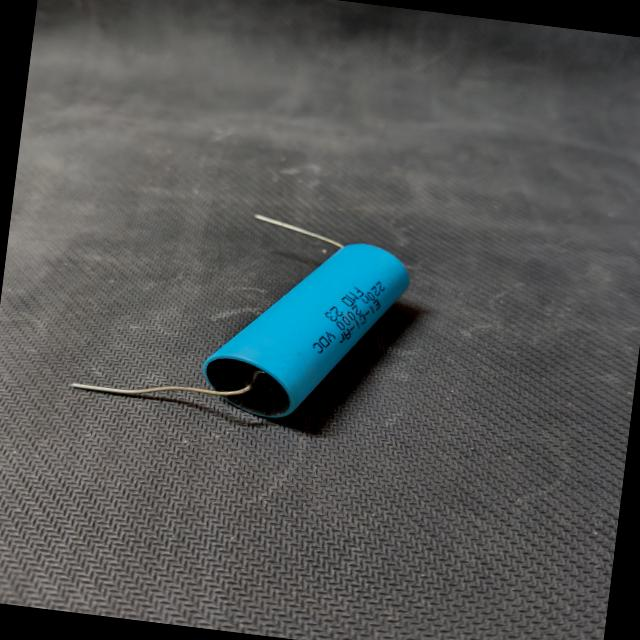capacitor: (52, 181, 428, 444)
